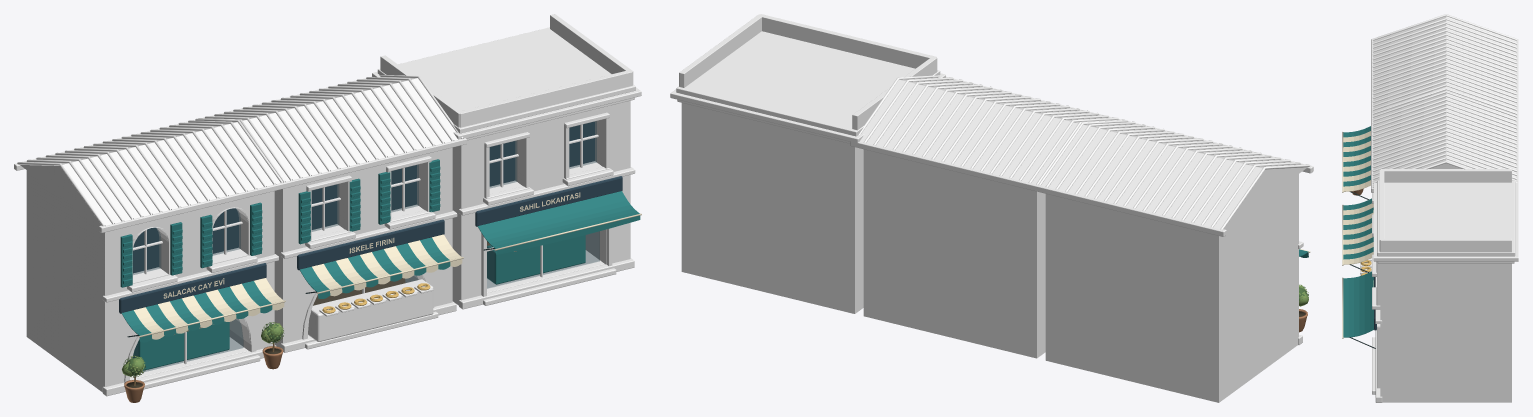
The model's file is DistrictBlock_0_0.glb.
The picture shows the model from 3 angles, left to right: view 1: azimuth 30°, elevation 25°; view 2: azimuth 150°, elevation 25°; view 3: azimuth 270°, elevation 25°; orthographic projection. The views are drawn at different scales.
Parts seen in each view (by area): view 1: RK_DistrictBlock_0_0_LC_Tile, RK_DistrictBlock_0_0_LC_Cream, RK_DistrictBlock_0_0_LC_Lime, RK_DistrictBlock_0_0_LC_Teal, RK_DistrictBlock_0_0_LC_Coral, RK_DistrictBlock_0_0_LC_Ink, RK_DistrictBlock_0_0_LC_Wood, RK_DistrictBlock_0_0_LC_Glass, RK_DistrictBlock_0_0_LC_Canvas, RK_DistrictBlock_0_0_RK_Terracotta, RK_DistrictBlock_0_0_RK_Leaf, RK_DistrictBlock_0_0_LC_Gold; view 2: RK_DistrictBlock_0_0_LC_Cream, RK_DistrictBlock_0_0_LC_Coral, RK_DistrictBlock_0_0_LC_Tile, RK_DistrictBlock_0_0_LC_Lime, RK_DistrictBlock_0_0_LC_Wood; view 3: RK_DistrictBlock_0_0_LC_Coral, RK_DistrictBlock_0_0_LC_Tile, RK_DistrictBlock_0_0_LC_Lime, RK_DistrictBlock_0_0_LC_Teal, RK_DistrictBlock_0_0_LC_Canvas, RK_DistrictBlock_0_0_LC_Wood.
Part boxes in pixels (left/top/right/bottom): RK_DistrictBlock_0_0_LC_Tile: left=17, top=75, right=463, bottom=226; RK_DistrictBlock_0_0_LC_Cream: left=26, top=147, right=452, bottom=392; RK_DistrictBlock_0_0_LC_Lime: left=102, top=27, right=641, bottom=396; RK_DistrictBlock_0_0_LC_Teal: left=120, top=159, right=640, bottom=370; RK_DistrictBlock_0_0_LC_Coral: left=380, top=14, right=633, bottom=305; RK_DistrictBlock_0_0_LC_Ink: left=119, top=121, right=622, bottom=313; RK_DistrictBlock_0_0_LC_Wood: left=14, top=76, right=604, bottom=380; RK_DistrictBlock_0_0_LC_Glass: left=132, top=121, right=599, bottom=372; RK_DistrictBlock_0_0_LC_Canvas: left=134, top=192, right=641, bottom=339; RK_DistrictBlock_0_0_RK_Terracotta: left=124, top=346, right=283, bottom=402; RK_DistrictBlock_0_0_RK_Leaf: left=122, top=322, right=284, bottom=377; RK_DistrictBlock_0_0_LC_Gold: left=322, top=283, right=430, bottom=313; RK_DistrictBlock_0_0_LC_Cream: left=863, top=149, right=1298, bottom=402; RK_DistrictBlock_0_0_LC_Coral: left=679, top=14, right=937, bottom=313; RK_DistrictBlock_0_0_LC_Tile: left=858, top=75, right=1310, bottom=229; RK_DistrictBlock_0_0_LC_Lime: left=670, top=31, right=1303, bottom=344; RK_DistrictBlock_0_0_LC_Wood: left=850, top=76, right=1313, bottom=236; RK_DistrictBlock_0_0_LC_Coral: left=1379, top=169, right=1511, bottom=402; RK_DistrictBlock_0_0_LC_Tile: left=1372, top=14, right=1517, bottom=187; RK_DistrictBlock_0_0_LC_Lime: left=1360, top=180, right=1518, bottom=402; RK_DistrictBlock_0_0_LC_Teal: left=1343, top=126, right=1373, bottom=337; RK_DistrictBlock_0_0_LC_Canvas: left=1342, top=131, right=1373, bottom=338; RK_DistrictBlock_0_0_LC_Wood: left=1371, top=39, right=1518, bottom=267.
Size of the model in its own units: 19.17 by 6.88 by 6.44.
